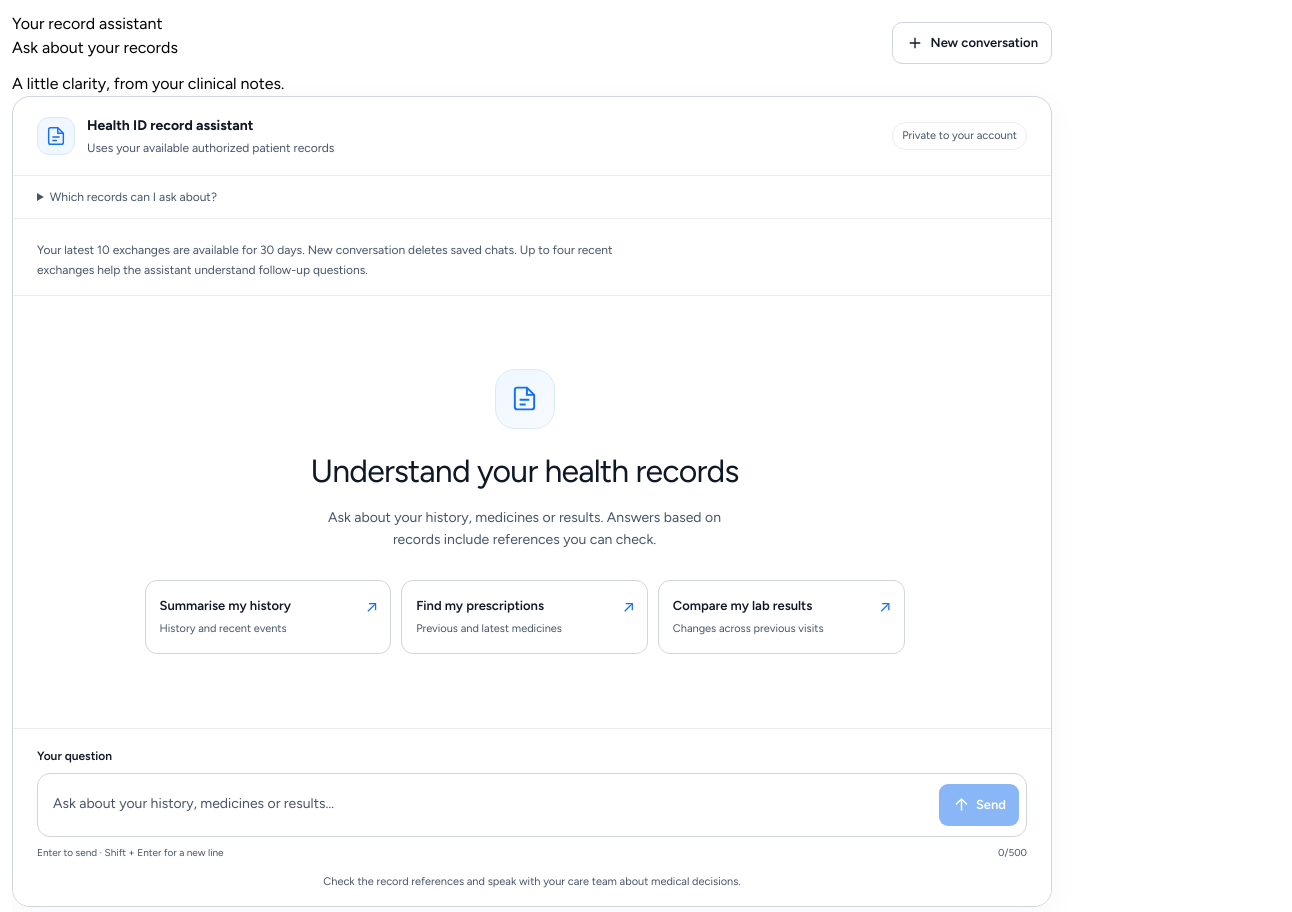
Scenario: shows the sent question immediately and keeps a new draft while a reply is pending
Type "My first question" into the text box labelled "Your question" at (487, 805), box 45,781 -> 929,829
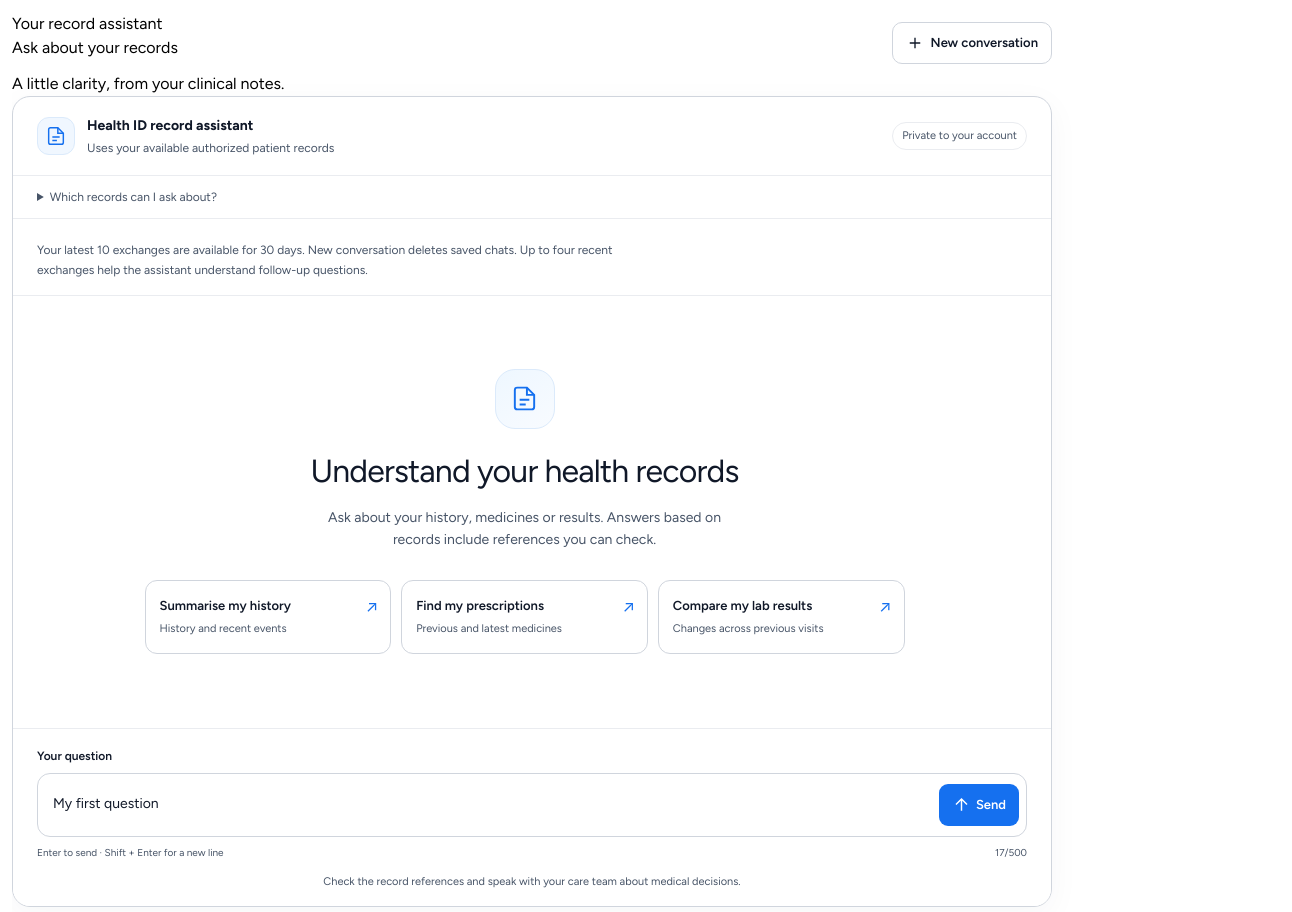
Click the button with aria-label "Send question" at (979, 805), box 939,784 -> 1019,826
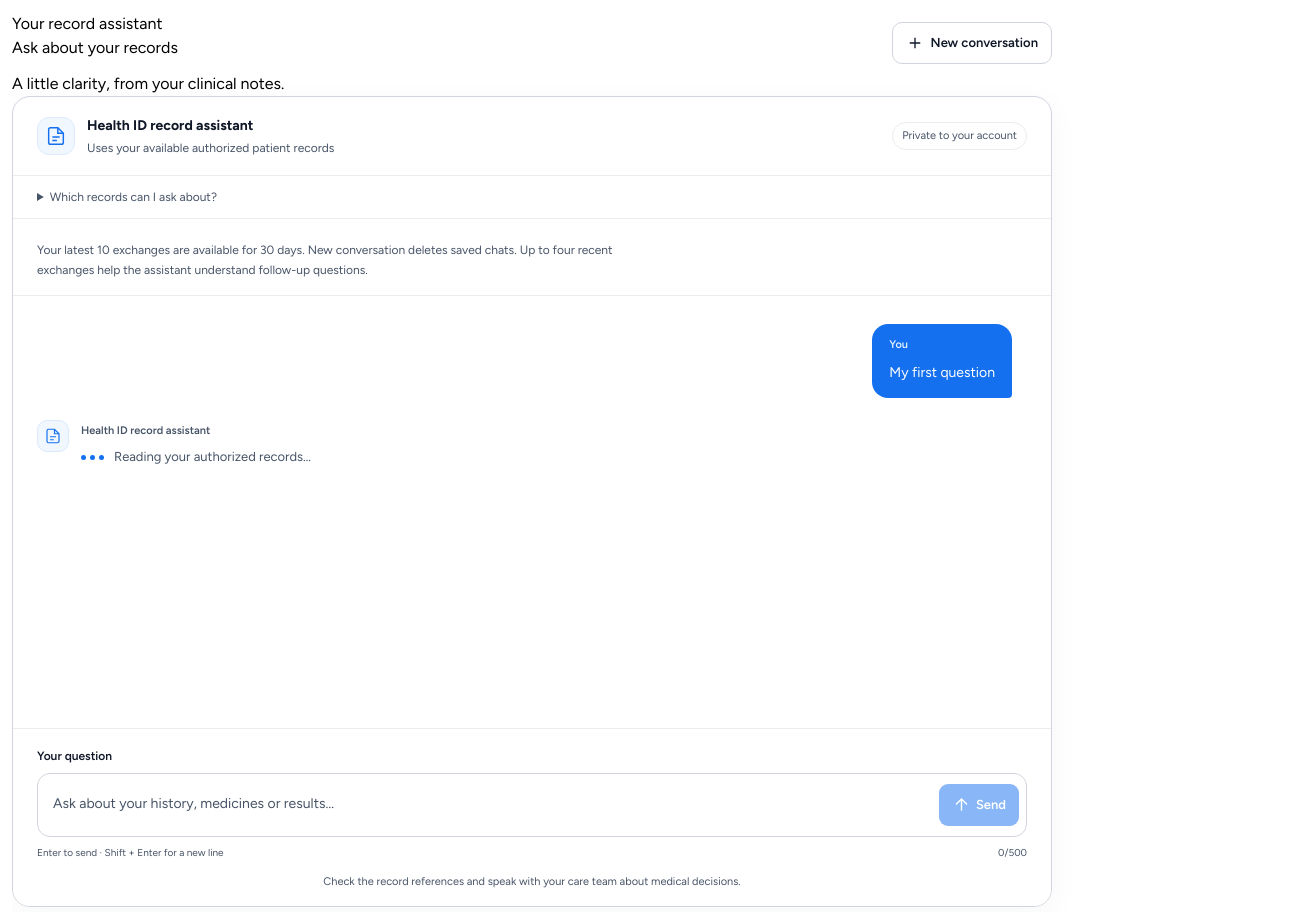
Expected: the element named "Record chat" shows "My first question", 889,364 -> 995,381
Expected: the message shows "Reading your authorized records", 114,449 -> 311,464
Expected: the text box labelled "Your question" is empty
Type "My next question" into the text box labelled "Your question" at (487, 805), box 45,781 -> 929,829
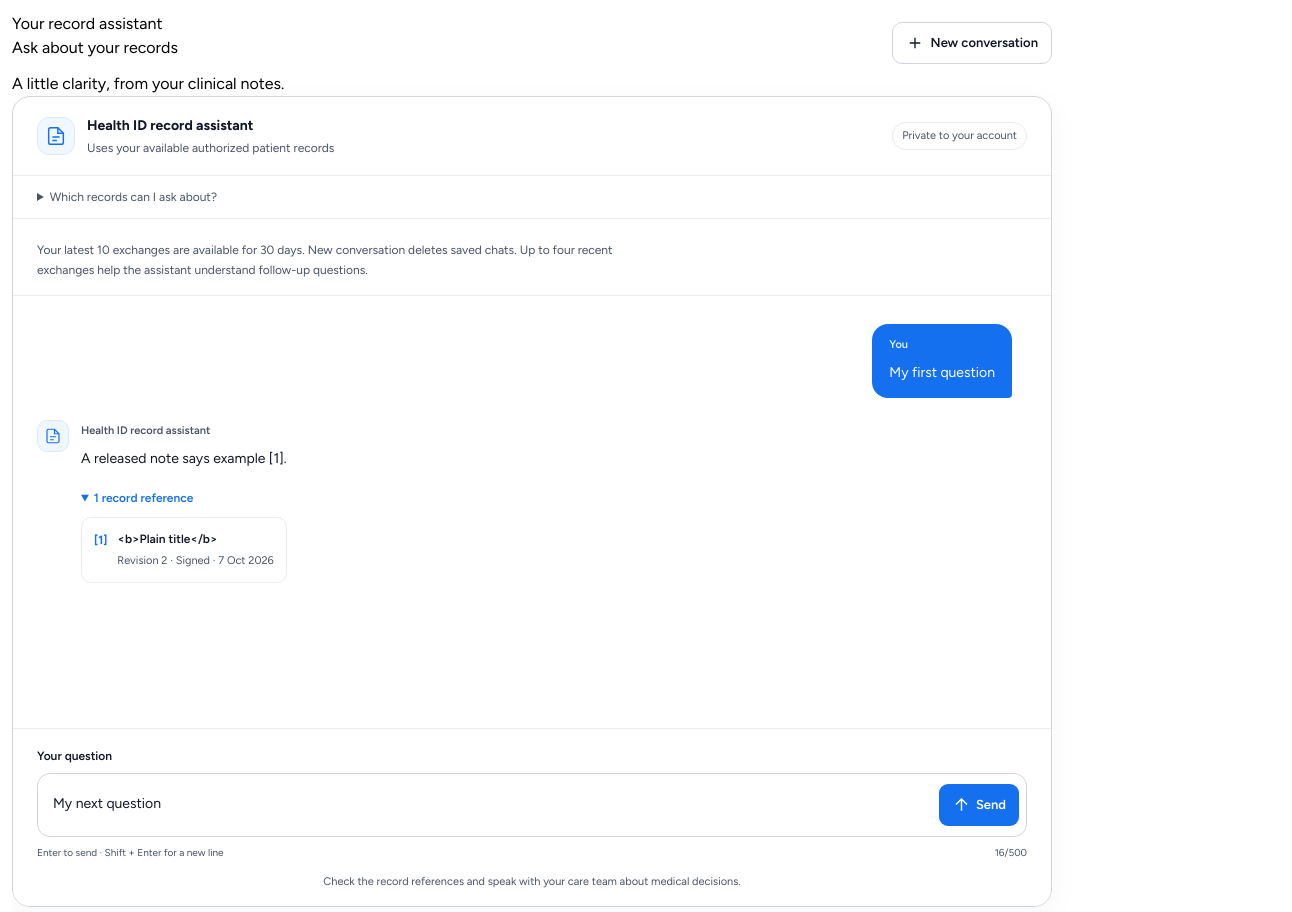
Expected: the text "A released note says example [1]." is shown, 81,447 -> 287,471
Expected: the message "Reading your authorized records…" is gone
Expected: the text "Revision 2 · Signed · 7 Oct 2026" is shown, 117,553 -> 274,570
